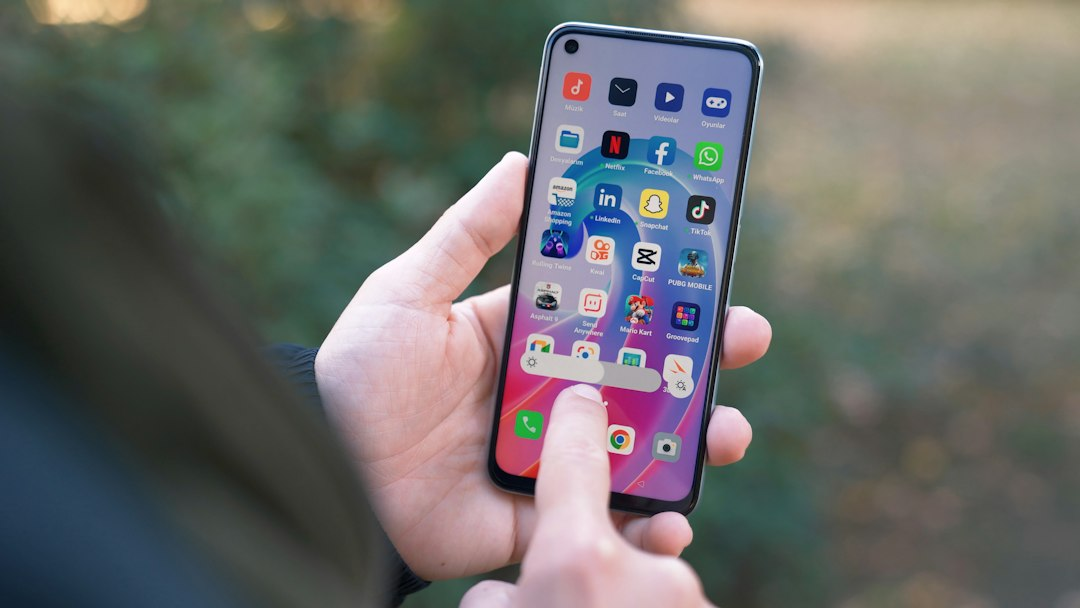phone: (484, 17, 763, 514)
